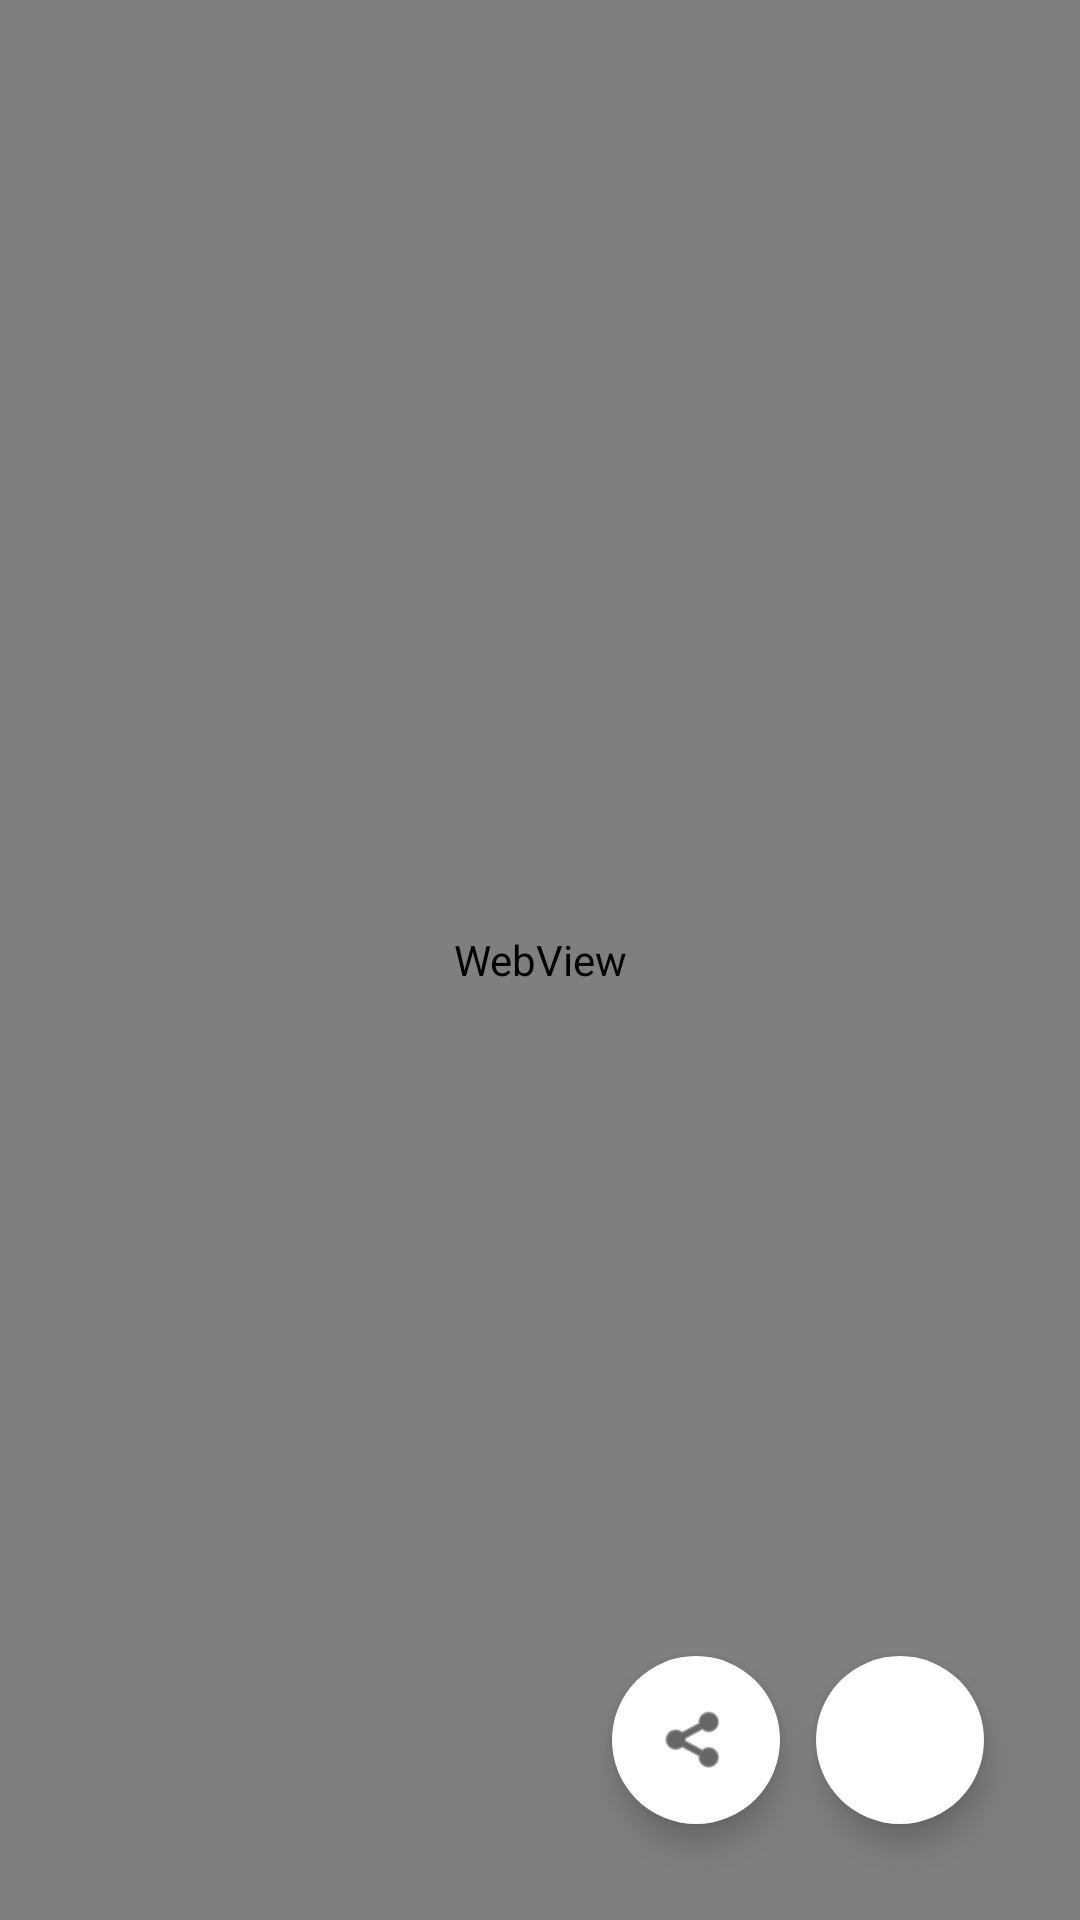

Named icons in this screenshot (1080x1920) and their bounding boxes, (x1, y1, x2, y2):
share: (612, 1656, 780, 1824)
